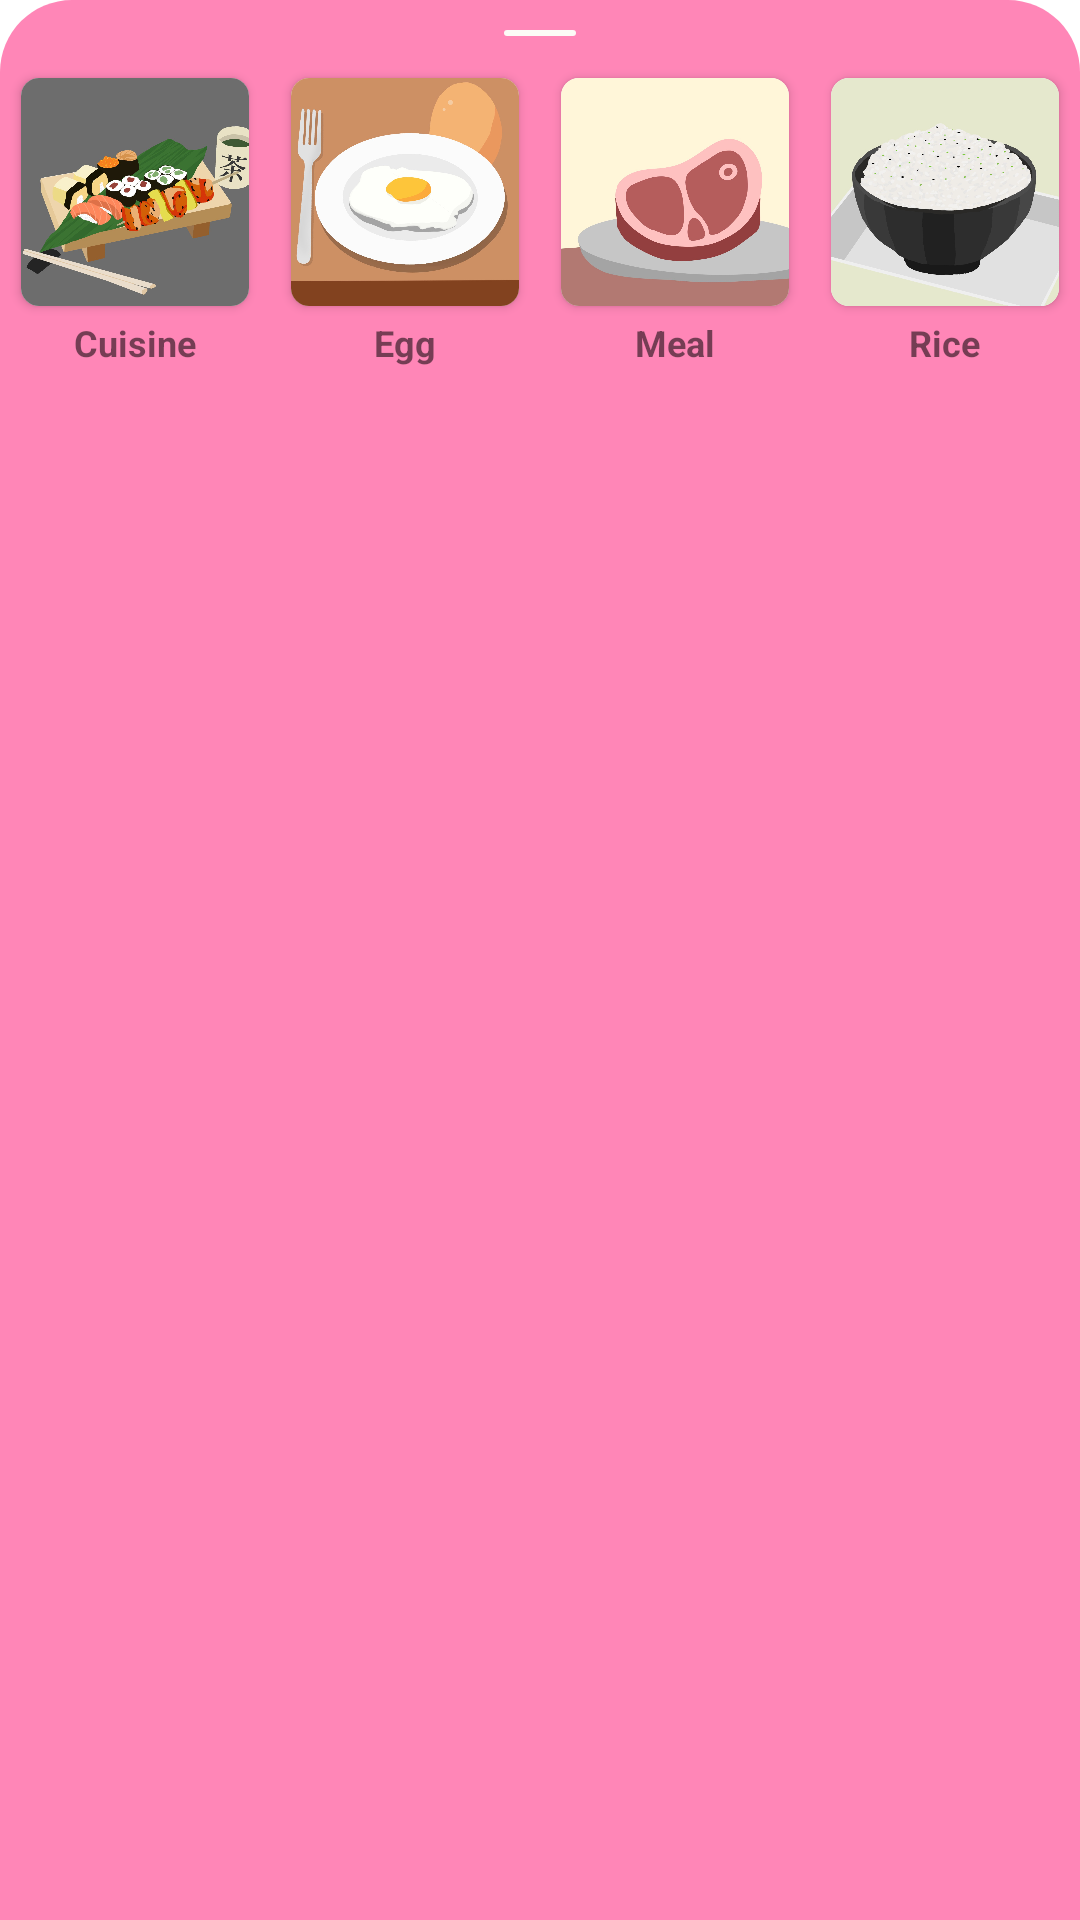

Named icons in this screenshot (1080px x 1920px) and their centers, [x,y]:
meat: [675,192]
